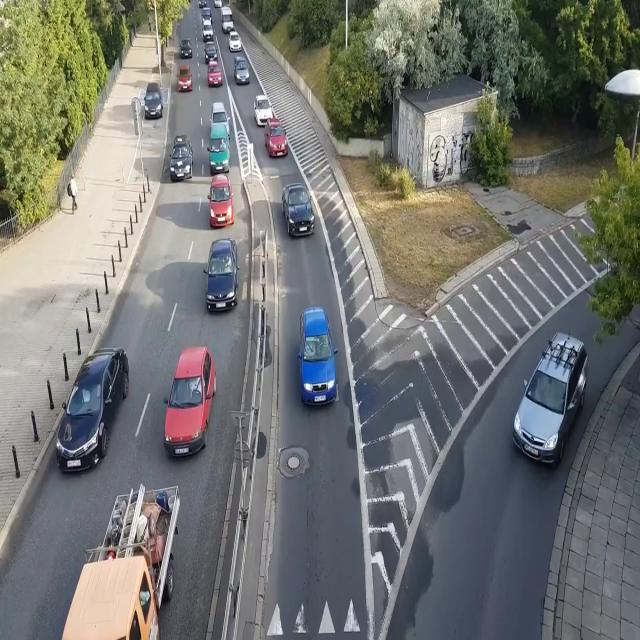car: (512, 331, 590, 471), (55, 348, 130, 475), (162, 345, 217, 461), (296, 307, 339, 410), (202, 238, 241, 314), (282, 184, 316, 238), (208, 175, 235, 227), (169, 134, 193, 181), (264, 117, 288, 158), (209, 101, 231, 140), (143, 82, 163, 119), (254, 95, 273, 126), (175, 65, 193, 92), (206, 61, 222, 88), (205, 41, 218, 65), (229, 31, 242, 52), (180, 38, 192, 59), (202, 8, 212, 25), (213, 0, 222, 8), (199, 0, 206, 9)
truck: (59, 482, 181, 640)
van: (208, 124, 230, 174), (234, 56, 250, 85), (220, 5, 235, 34), (202, 20, 215, 41)
